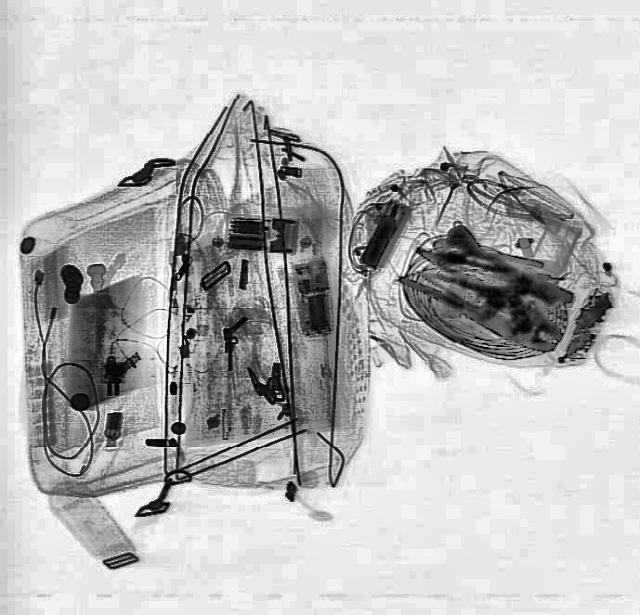Pliers: (391, 239, 575, 361)
